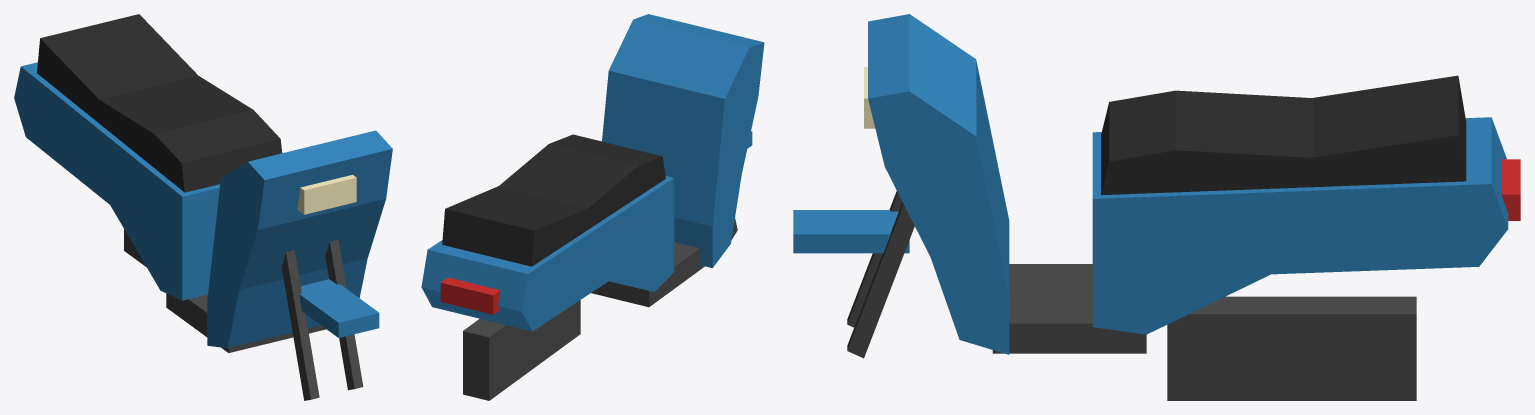
The model's file is scooter_body.obj.
The picture shows the model from 3 angles, left to right: view 1: azimuth 30°, elevation 25°; view 2: azimuth 150°, elevation 25°; view 3: azimuth 270°, elevation 25°; orthographic projection. The views are drawn at different scales.
Visible parts, largest first — view 1: scooter_body; view 2: scooter_body; view 3: scooter_body.
Boxes of the visible parts, bbox=[...] form: scooter_body: bbox=[14, 14, 392, 400]; scooter_body: bbox=[421, 14, 764, 400]; scooter_body: bbox=[793, 14, 1520, 400].
Size of the model in its own units: 0.44 by 0.85 by 1.75.
